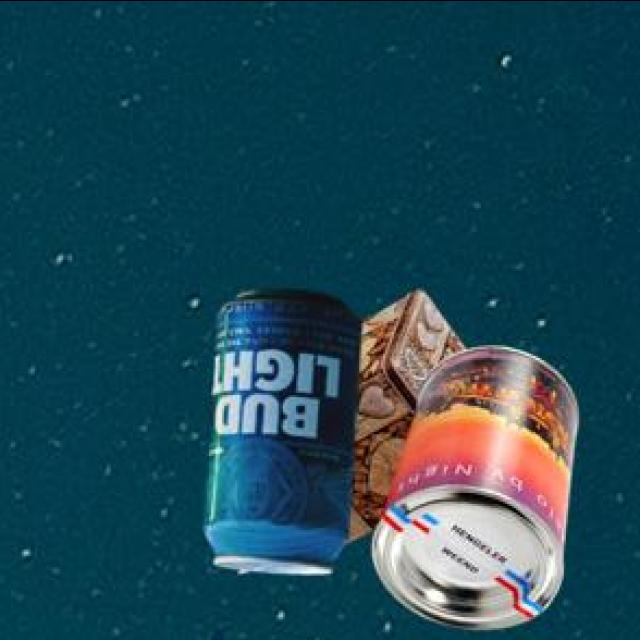logam: (369, 349, 576, 630), (201, 293, 358, 576), (344, 293, 463, 545)
